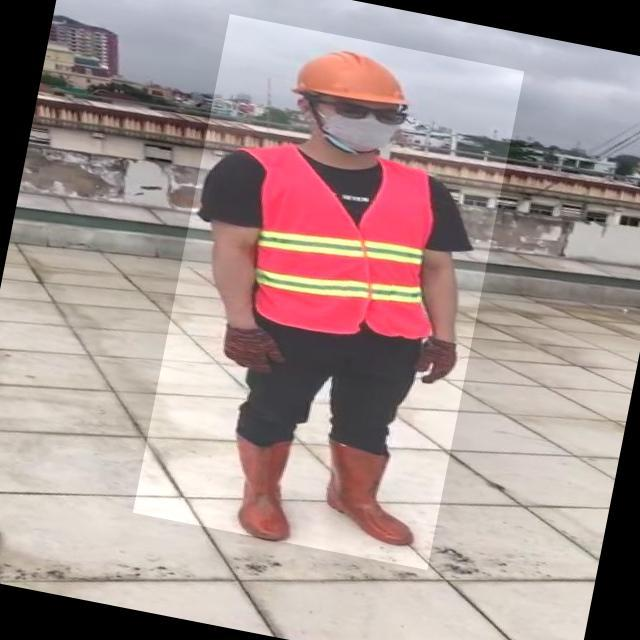Gloves: (222, 323, 289, 377), (413, 336, 462, 390)
Helmet: (281, 37, 421, 115)
Human: (133, 14, 524, 570)
Safety Boot: (318, 440, 435, 548), (219, 434, 308, 541)
Safety Vest: (238, 142, 457, 351)
